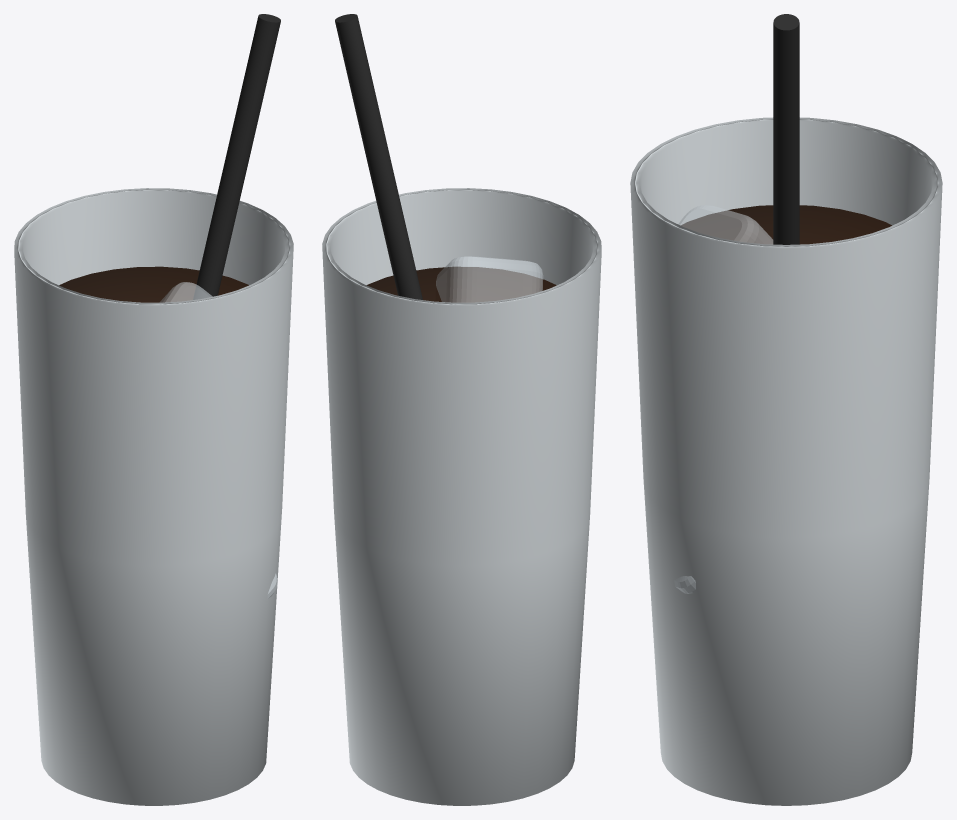
The model's file is alba-iced-americano.glb.
3 renders of one model, left to right at view 1: azimuth 30°, elevation 25°; view 2: azimuth 150°, elevation 25°; view 3: azimuth 270°, elevation 25°, orthographic. The views are drawn at different scales.
Size of the model in its own units: 0.0733 by 0.2027 by 0.072.
